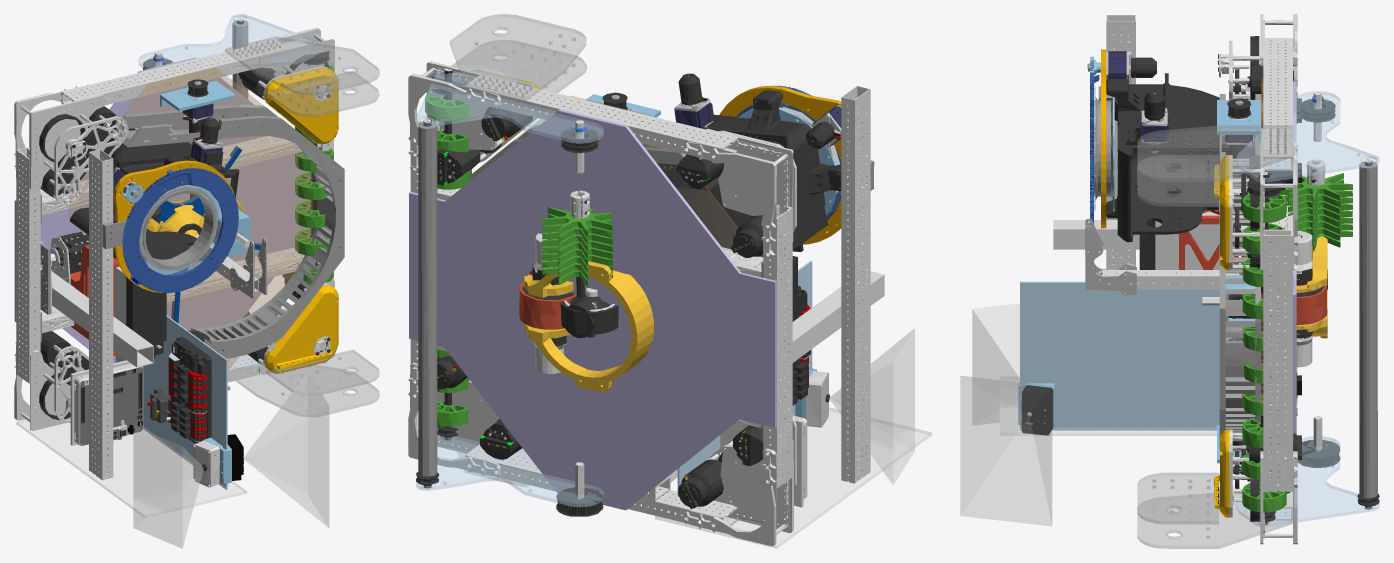
3 views of the same model, side by side, from view 1: azimuth 30°, elevation 25°; view 2: azimuth 150°, elevation 25°; view 3: azimuth 270°, elevation 25° (orthographic). The views are drawn at different scales.
Parts seen in each view (by area): view 1: main_mesh, c0_mesh, c3_mesh, c1_mesh; view 2: main_mesh, c0_mesh, c2_mesh, c4_mesh, c5_mesh, c3_mesh; view 3: main_mesh, c0_mesh, c4_mesh, c2_mesh, c1_mesh.
Part boxes in pixels (x1=…): main_mesh: x1=14, y1=27, x2=379, y2=548; c0_mesh: x1=138, y1=14, x2=333, y2=369; c3_mesh: x1=153, y1=146, x2=261, y2=323; c1_mesh: x1=188, y1=234, x2=267, y2=298; main_mesh: x1=408, y1=14, x2=931, y2=548; c0_mesh: x1=416, y1=66, x2=603, y2=516; c2_mesh: x1=519, y1=233, x2=653, y2=392; c4_mesh: x1=542, y1=190, x2=613, y2=297; c5_mesh: x1=560, y1=288, x2=618, y2=337; c3_mesh: x1=562, y1=294, x2=603, y2=337; main_mesh: x1=960, y1=14, x2=1301, y2=548; c0_mesh: x1=1236, y1=91, x2=1379, y2=526; c4_mesh: x1=1280, y1=159, x2=1352, y2=259; c2_mesh: x1=1243, y1=231, x2=1327, y2=367; c1_mesh: x1=1085, y1=218, x2=1239, y2=295.
Size of the model in its own units: 0.6858 by 0.7831 by 0.7172.
